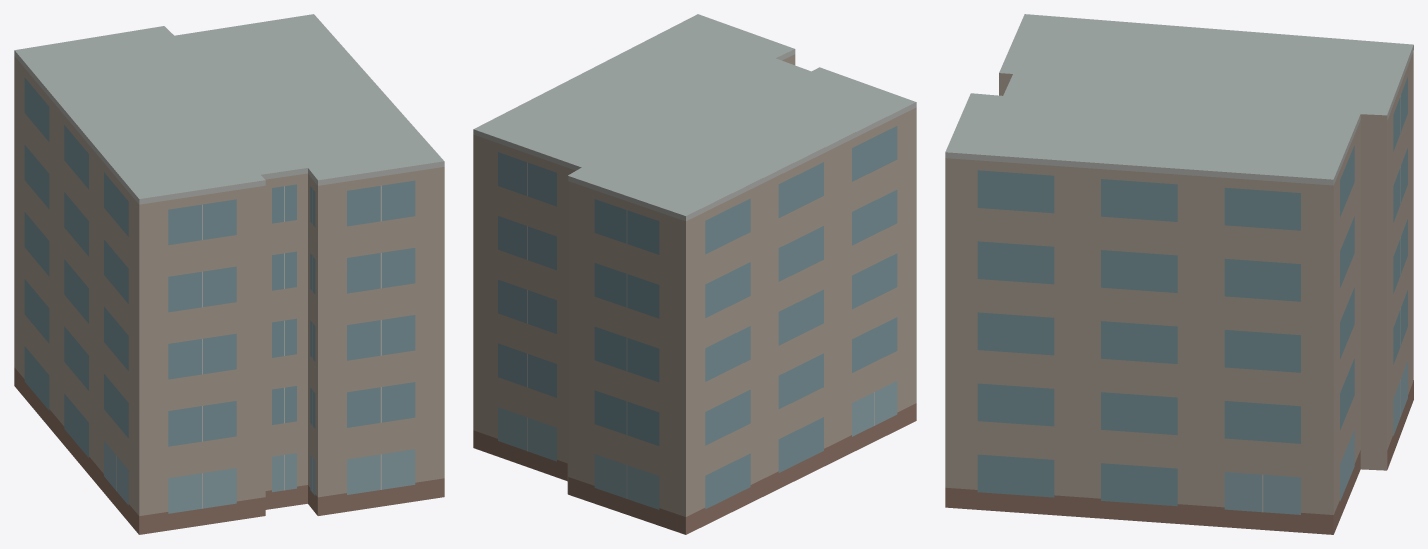
Rendered from survey-upis-32720886.glb.
3 renders of one model, left to right at view 1: azimuth 30°, elevation 25°; view 2: azimuth 150°, elevation 25°; view 3: azimuth 270°, elevation 25°, orthographic. The views are drawn at different scales.
Visible parts, largest first — view 1: survey-upis-32720886.tmp; view 2: survey-upis-32720886.tmp; view 3: survey-upis-32720886.tmp.
Part boxes in pixels (x1,y1,x2,y2): survey-upis-32720886.tmp: [14, 14, 444, 534]; survey-upis-32720886.tmp: [473, 14, 916, 534]; survey-upis-32720886.tmp: [945, 14, 1413, 534].
Size of the model in its own units: 14.91 by 14.9 by 17.82.
